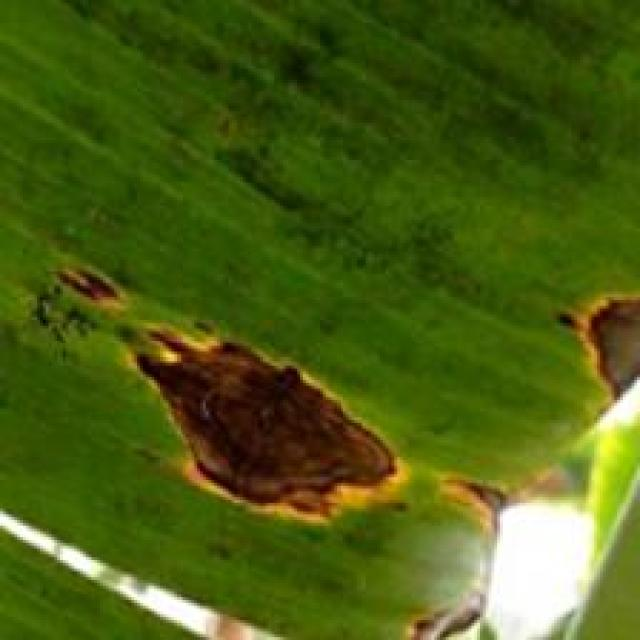Bacterial_spot: (102, 310, 402, 542), (537, 271, 640, 423), (428, 449, 564, 552), (29, 240, 144, 317), (387, 586, 508, 640)
